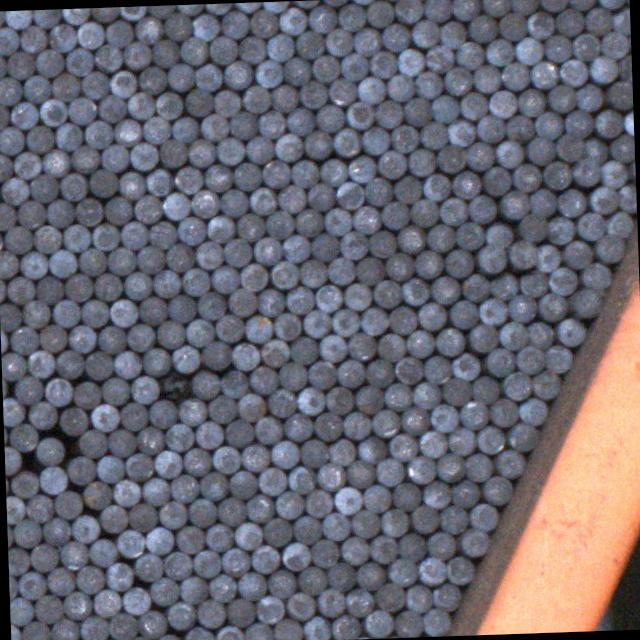tool: (568, 288, 602, 318), (32, 594, 62, 624), (464, 140, 494, 170), (190, 368, 220, 398), (14, 374, 44, 404), (547, 264, 576, 294), (503, 370, 532, 400), (136, 608, 165, 638), (448, 298, 477, 328), (594, 233, 624, 262), (290, 514, 320, 543), (508, 422, 538, 451), (266, 389, 296, 418), (66, 454, 95, 484), (148, 398, 178, 427), (477, 243, 507, 272), (554, 132, 584, 161), (439, 504, 468, 533), (249, 363, 278, 392), (489, 398, 518, 427), (55, 349, 84, 378), (442, 375, 471, 404), (164, 421, 193, 450), (500, 190, 529, 219), (307, 359, 336, 388), (468, 324, 497, 353), (105, 428, 134, 457), (200, 339, 229, 368), (167, 294, 196, 323), (387, 558, 417, 586), (362, 610, 392, 638), (262, 518, 292, 546), (264, 208, 292, 238), (223, 60, 251, 90), (376, 150, 404, 180), (442, 248, 472, 276), (346, 458, 374, 488), (84, 350, 112, 380), (229, 286, 257, 316), (313, 410, 341, 440), (196, 290, 224, 320), (228, 468, 256, 498), (194, 240, 222, 270), (134, 552, 162, 582), (211, 444, 239, 474), (188, 498, 216, 528), (54, 491, 84, 519), (207, 394, 235, 424), (138, 294, 166, 324), (215, 314, 245, 342), (36, 436, 64, 466), (88, 536, 116, 566), (532, 368, 560, 398), (134, 426, 162, 455), (84, 120, 112, 149), (286, 592, 314, 621), (250, 543, 278, 572), (46, 566, 74, 595), (278, 362, 306, 391), (556, 317, 585, 345), (298, 566, 326, 595), (442, 66, 470, 95), (508, 294, 536, 323), (244, 493, 272, 522), (430, 402, 458, 431), (152, 449, 180, 478), (515, 344, 544, 372), (104, 560, 132, 589), (418, 556, 446, 585), (376, 582, 404, 611), (478, 298, 507, 326), (459, 528, 488, 556), (468, 195, 496, 224), (344, 588, 372, 617), (169, 473, 197, 502), (300, 439, 328, 468), (482, 166, 510, 195), (328, 561, 356, 590), (553, 7, 581, 36), (527, 136, 555, 165), (459, 399, 487, 428), (226, 597, 254, 626), (84, 480, 112, 509), (119, 402, 147, 431), (430, 276, 459, 304), (164, 243, 192, 272), (437, 451, 465, 480), (390, 481, 419, 509), (280, 542, 308, 571), (494, 449, 523, 477), (77, 428, 105, 457), (294, 207, 322, 236), (59, 540, 88, 568), (74, 563, 102, 592), (95, 454, 124, 482), (133, 193, 161, 222), (60, 405, 88, 434), (198, 472, 226, 501), (108, 611, 136, 640), (181, 446, 209, 475), (29, 400, 58, 428), (508, 239, 536, 268), (498, 321, 526, 350), (350, 204, 378, 233), (130, 374, 158, 403), (186, 316, 214, 345), (115, 528, 144, 556), (141, 348, 169, 377), (572, 156, 600, 185), (505, 114, 534, 142), (383, 380, 410, 410), (606, 79, 633, 109), (178, 576, 206, 604), (489, 90, 517, 118), (315, 462, 343, 490), (326, 386, 354, 414), (334, 486, 362, 514), (498, 12, 526, 40), (376, 334, 404, 362), (128, 142, 156, 170), (320, 512, 348, 540), (150, 577, 178, 605), (386, 434, 414, 462), (8, 276, 36, 304), (178, 216, 206, 244), (422, 608, 450, 636), (258, 468, 286, 496), (454, 222, 482, 250), (158, 500, 186, 528), (369, 533, 397, 561), (243, 85, 271, 113), (253, 236, 281, 264), (295, 29, 323, 57), (267, 570, 295, 598), (276, 490, 304, 518), (62, 592, 90, 620), (454, 40, 482, 68), (208, 36, 236, 64), (276, 183, 304, 211), (426, 44, 454, 72), (96, 94, 124, 122), (529, 188, 557, 216), (24, 124, 52, 152), (290, 160, 318, 188), (408, 198, 436, 226), (476, 424, 504, 452), (470, 503, 498, 531), (26, 350, 54, 378), (70, 144, 98, 172), (390, 124, 418, 152), (364, 358, 392, 386), (192, 188, 220, 216), (372, 278, 400, 306), (182, 268, 210, 296), (578, 210, 606, 238), (198, 112, 226, 140), (220, 548, 248, 576), (90, 169, 118, 197), (122, 587, 150, 615), (301, 310, 329, 338), (412, 248, 440, 276), (355, 562, 383, 590), (192, 550, 220, 578), (286, 465, 314, 493), (512, 163, 540, 191), (398, 407, 426, 435), (34, 224, 62, 252), (80, 71, 108, 99), (560, 59, 588, 87), (309, 538, 337, 566), (296, 386, 324, 414), (270, 261, 298, 289), (234, 522, 262, 550), (61, 224, 89, 252), (20, 250, 48, 278), (483, 476, 511, 504), (47, 24, 75, 52), (534, 110, 562, 138), (379, 200, 407, 228), (518, 398, 546, 426), (140, 476, 168, 504), (254, 59, 282, 87), (203, 163, 231, 191), (393, 610, 421, 638), (336, 180, 364, 208), (244, 135, 272, 163), (344, 100, 372, 128), (439, 197, 467, 225), (110, 298, 138, 326), (240, 443, 268, 471), (360, 306, 388, 334), (39, 98, 67, 126), (486, 38, 514, 66), (272, 133, 300, 161), (298, 80, 326, 108), (6, 52, 34, 80), (424, 354, 452, 382), (92, 44, 120, 72), (316, 102, 344, 130), (93, 590, 121, 618), (238, 264, 266, 292), (436, 328, 464, 356), (286, 108, 314, 136), (74, 197, 102, 225), (556, 188, 584, 216), (28, 174, 56, 202), (224, 238, 252, 266), (79, 248, 107, 276), (338, 232, 366, 260), (318, 334, 346, 362), (562, 108, 590, 136), (144, 527, 172, 555), (172, 165, 200, 193), (76, 20, 104, 48), (231, 341, 259, 369), (516, 88, 544, 116), (396, 47, 424, 75), (418, 430, 446, 458), (232, 163, 260, 191), (373, 98, 401, 126), (204, 522, 232, 550), (150, 38, 178, 66), (398, 532, 426, 560), (470, 376, 498, 404), (562, 240, 590, 268), (220, 11, 248, 39), (542, 160, 570, 188), (30, 542, 58, 570), (154, 90, 182, 118), (426, 530, 454, 558), (178, 36, 206, 64), (249, 8, 277, 36), (276, 8, 304, 36), (304, 130, 332, 158), (282, 412, 310, 440), (128, 502, 156, 530), (421, 479, 449, 507), (376, 457, 404, 485), (124, 453, 152, 481), (588, 54, 616, 82), (588, 185, 616, 213), (450, 479, 478, 507), (290, 337, 318, 365), (542, 34, 570, 62), (163, 551, 191, 579), (13, 520, 41, 548), (460, 272, 488, 300), (476, 113, 504, 141), (308, 5, 336, 33), (446, 554, 474, 582), (583, 5, 611, 33), (388, 306, 416, 334), (162, 13, 190, 41), (574, 83, 602, 111), (64, 274, 92, 302), (536, 293, 564, 321), (406, 148, 434, 176), (396, 225, 424, 253), (542, 344, 570, 372), (50, 72, 78, 100), (5, 225, 33, 253), (8, 326, 36, 354), (18, 570, 46, 598), (90, 222, 118, 250), (286, 285, 314, 313), (156, 318, 184, 346), (225, 418, 253, 446), (600, 158, 628, 186), (260, 338, 288, 366), (176, 398, 204, 426), (38, 464, 66, 492), (218, 369, 246, 397), (407, 456, 435, 484), (25, 494, 53, 522), (346, 156, 374, 184), (147, 222, 175, 250), (310, 234, 338, 262), (70, 514, 98, 542), (171, 344, 199, 372), (100, 376, 128, 404), (114, 350, 142, 378), (596, 108, 624, 136), (518, 212, 546, 240), (126, 324, 154, 352), (394, 174, 422, 202), (336, 4, 364, 32), (354, 257, 382, 285), (484, 347, 512, 375), (352, 384, 380, 412), (524, 320, 552, 348), (97, 326, 125, 354), (436, 143, 464, 171), (349, 511, 378, 538), (36, 49, 63, 78), (361, 125, 388, 154), (195, 598, 222, 627), (452, 169, 479, 198), (463, 452, 490, 481), (581, 263, 610, 290), (237, 392, 264, 421), (403, 97, 430, 126), (518, 270, 548, 296), (44, 376, 71, 404), (9, 101, 36, 129), (336, 358, 363, 386), (306, 182, 333, 210), (69, 96, 96, 124), (166, 62, 193, 90), (55, 120, 82, 148), (237, 570, 264, 598), (371, 409, 398, 437), (282, 235, 310, 262), (82, 299, 109, 327), (468, 15, 496, 42), (216, 136, 243, 164), (426, 225, 454, 252), (175, 525, 202, 553), (255, 594, 282, 622), (501, 62, 528, 90), (191, 13, 218, 41), (14, 150, 41, 178), (46, 199, 73, 227), (281, 58, 308, 86), (50, 250, 77, 278), (313, 283, 340, 311), (405, 330, 432, 358), (58, 172, 85, 200), (325, 28, 352, 56), (319, 157, 346, 185), (332, 308, 359, 336), (514, 35, 541, 63), (364, 178, 392, 205), (54, 298, 81, 326), (270, 442, 298, 469), (220, 187, 247, 215), (382, 22, 409, 50), (42, 150, 69, 178), (339, 52, 366, 80), (451, 351, 478, 379), (195, 62, 222, 90), (229, 110, 256, 138), (401, 276, 428, 304), (526, 11, 554, 38), (66, 46, 93, 74), (305, 489, 332, 517), (430, 94, 457, 122), (246, 314, 273, 342), (90, 402, 118, 429), (362, 484, 389, 512), (432, 582, 459, 610), (381, 508, 408, 536), (368, 230, 395, 258), (415, 70, 442, 98), (257, 110, 284, 138), (109, 70, 136, 98), (235, 212, 262, 240), (205, 214, 232, 242), (160, 138, 187, 166), (1, 177, 28, 205), (333, 128, 360, 156), (347, 332, 374, 360), (136, 246, 163, 274), (417, 302, 444, 330), (141, 115, 168, 143), (488, 271, 516, 298), (530, 61, 558, 88), (185, 88, 212, 116), (258, 288, 285, 316), (216, 498, 243, 526), (208, 572, 235, 600), (109, 246, 136, 274), (460, 90, 487, 118), (166, 600, 193, 628), (606, 210, 634, 237), (424, 171, 451, 199), (195, 419, 222, 447), (139, 66, 166, 94), (413, 19, 440, 47), (262, 159, 289, 187), (124, 271, 151, 299), (111, 478, 138, 506), (70, 324, 97, 352), (11, 422, 39, 449), (272, 312, 299, 340), (269, 84, 296, 112), (41, 518, 68, 546), (384, 252, 411, 280), (601, 29, 629, 56), (253, 416, 280, 444), (74, 381, 102, 408), (237, 34, 264, 62), (485, 222, 513, 249), (418, 122, 445, 150), (37, 276, 64, 304), (318, 588, 344, 617), (100, 504, 126, 533), (22, 298, 48, 327), (22, 73, 48, 102), (18, 198, 44, 227), (608, 134, 634, 163), (331, 614, 360, 640), (122, 220, 148, 249), (352, 26, 378, 55), (324, 208, 351, 235), (11, 471, 38, 498), (385, 73, 412, 100), (342, 282, 369, 309), (395, 355, 422, 382), (106, 19, 133, 46), (368, 51, 395, 78), (213, 88, 240, 115), (344, 412, 371, 439), (329, 438, 356, 465), (170, 116, 197, 143), (546, 215, 573, 242), (114, 117, 140, 145), (328, 257, 354, 285), (342, 536, 368, 564), (162, 190, 188, 218), (40, 326, 68, 352), (496, 139, 522, 167), (188, 138, 214, 166), (446, 120, 474, 146), (406, 583, 432, 611), (356, 74, 382, 102), (572, 31, 598, 59), (300, 260, 326, 288), (412, 506, 438, 534), (126, 92, 152, 120), (548, 84, 574, 112), (146, 168, 172, 196), (472, 65, 498, 93), (266, 32, 292, 60), (19, 25, 45, 53), (448, 427, 474, 455), (154, 270, 180, 298), (80, 614, 108, 640), (122, 40, 148, 68), (439, 19, 465, 47), (212, 265, 238, 293), (356, 438, 384, 464), (118, 170, 144, 198), (94, 273, 120, 301), (312, 56, 339, 82), (365, 0, 392, 26), (106, 195, 132, 222), (135, 15, 161, 42), (250, 186, 276, 213), (412, 382, 439, 408), (328, 78, 354, 105), (302, 615, 330, 640), (536, 244, 561, 272), (100, 144, 126, 170), (48, 616, 76, 640), (2, 396, 26, 424), (584, 138, 608, 165), (1, 351, 24, 379), (273, 618, 302, 640), (394, 0, 422, 22), (10, 596, 32, 624), (0, 125, 21, 153), (8, 545, 28, 573), (0, 301, 20, 329), (616, 182, 636, 210), (19, 620, 47, 640), (612, 5, 630, 36), (448, 0, 477, 19), (423, 0, 450, 20), (0, 76, 19, 104), (6, 495, 24, 524), (244, 622, 272, 640), (0, 249, 18, 277), (32, 9, 59, 27), (4, 444, 20, 474), (0, 27, 17, 55), (5, 10, 31, 28), (482, 0, 510, 16), (213, 625, 242, 640), (61, 8, 88, 24), (0, 200, 14, 228), (618, 54, 632, 82), (182, 627, 211, 640), (120, 6, 146, 20), (147, 5, 175, 18), (509, 0, 536, 13), (90, 7, 116, 20), (622, 108, 634, 134), (174, 4, 202, 15), (203, 3, 230, 14), (232, 2, 261, 12), (262, 1, 288, 12), (537, 0, 565, 10), (0, 152, 10, 180), (567, 0, 595, 9), (596, 0, 626, 8), (290, 0, 320, 7), (628, 158, 636, 184), (8, 571, 15, 600), (154, 633, 182, 640), (0, 101, 7, 128), (0, 327, 6, 355), (7, 522, 13, 550), (11, 624, 20, 640), (0, 276, 5, 304), (320, 0, 348, 5), (123, 635, 150, 640), (0, 52, 5, 79), (349, 0, 376, 3), (0, 228, 3, 254), (0, 11, 4, 28)
tool_b: (160, 370, 192, 400)
